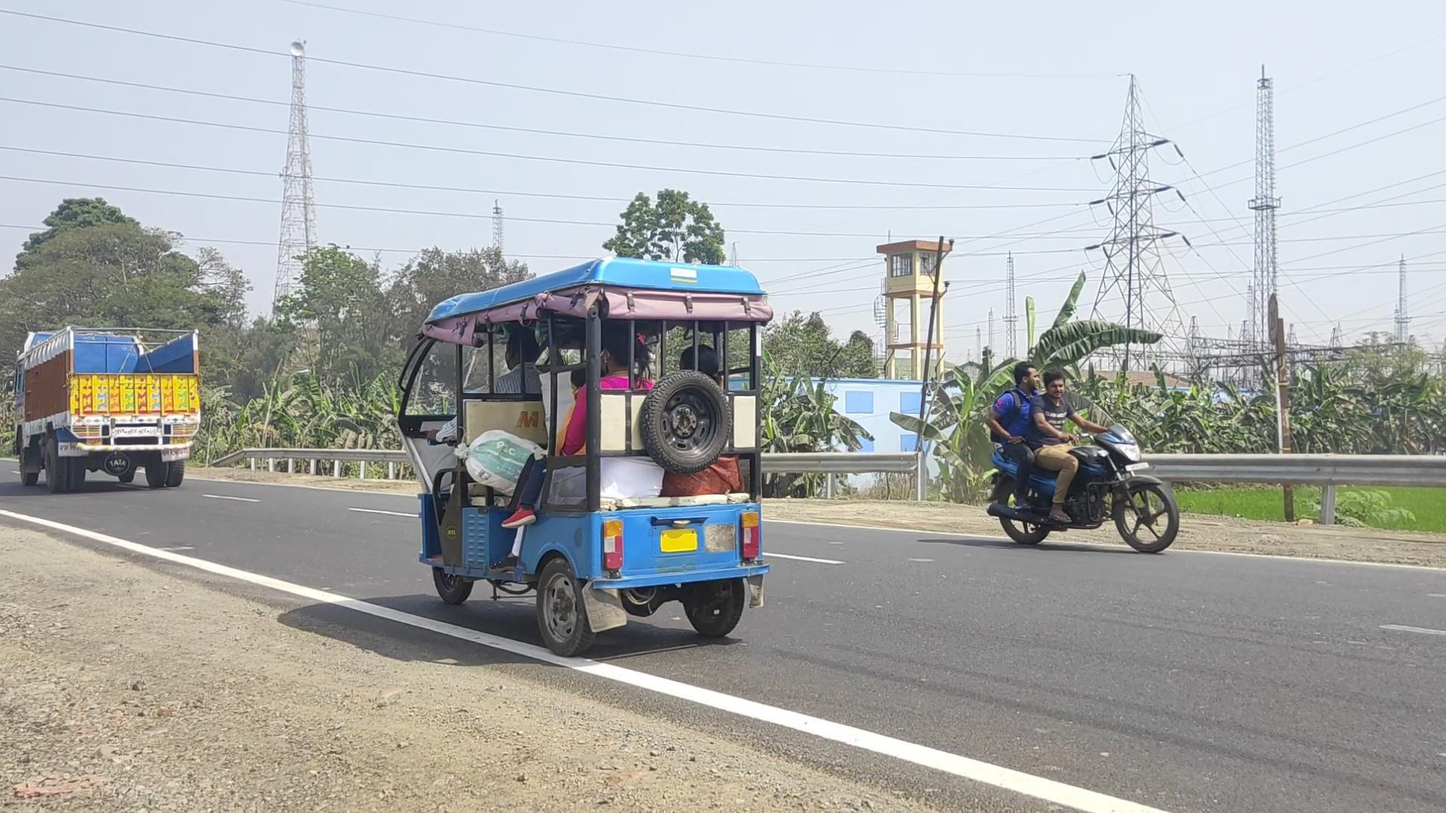Auto: (392, 255, 771, 657)
bike: (985, 362, 1180, 553)
truck: (8, 323, 200, 493)
